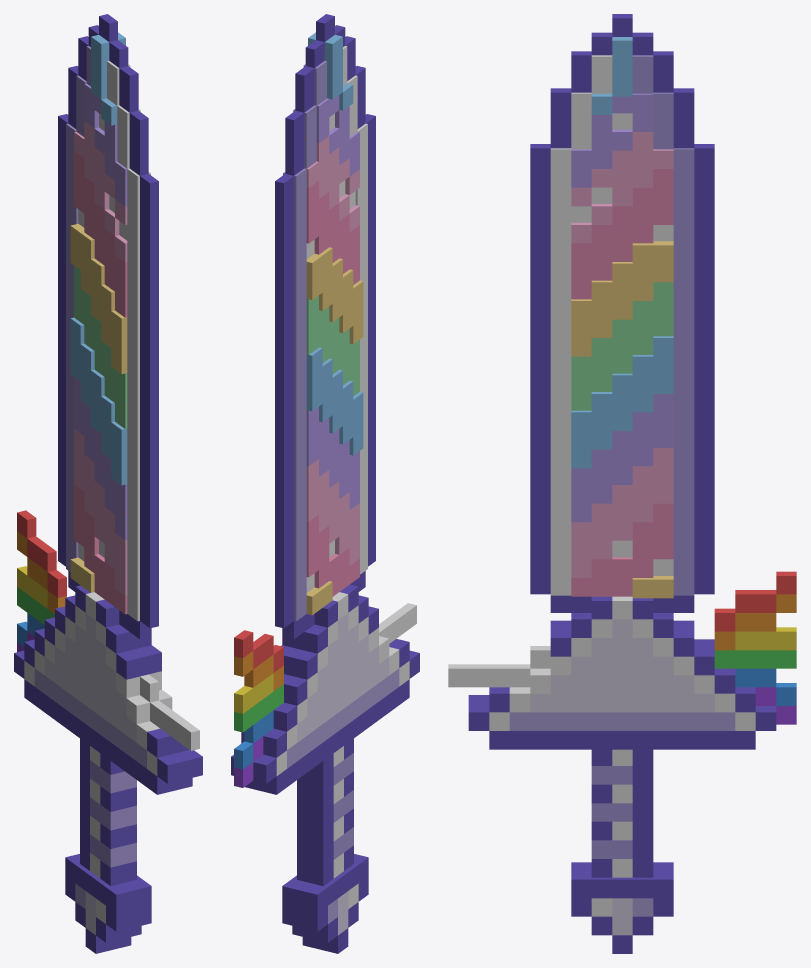
The model's file is sword_prism.glb.
3 renders of one model, left to right at view 1: azimuth 30°, elevation 25°; view 2: azimuth 150°, elevation 25°; view 3: azimuth 270°, elevation 25°, orthographic.
Visible parts, largest first — view 1: Blade; view 2: Blade; view 3: Blade.
Part boxes in pixels (left/top/right/bottom): Blade: left=14, top=14, right=202, bottom=953; Blade: left=231, top=14, right=419, bottom=953; Blade: left=448, top=14, right=796, bottom=953.
Size of the model in its own units: 0.064 by 1.6 by 0.544.
